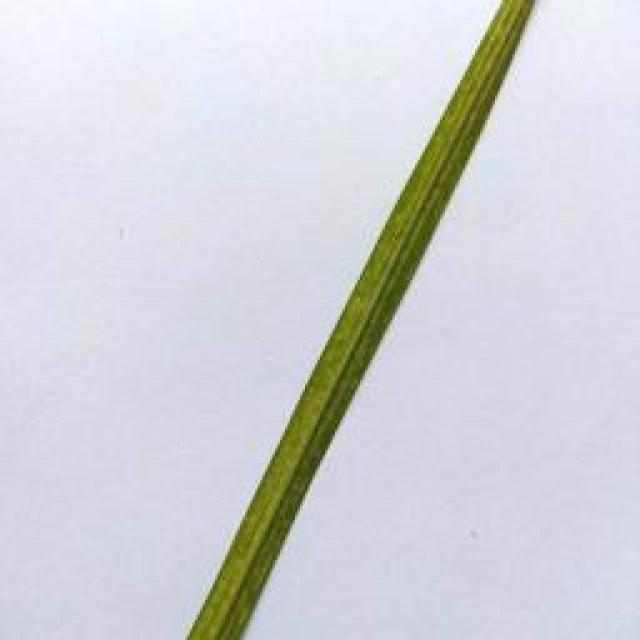Healthy-Plant: (189, 0, 536, 640)
